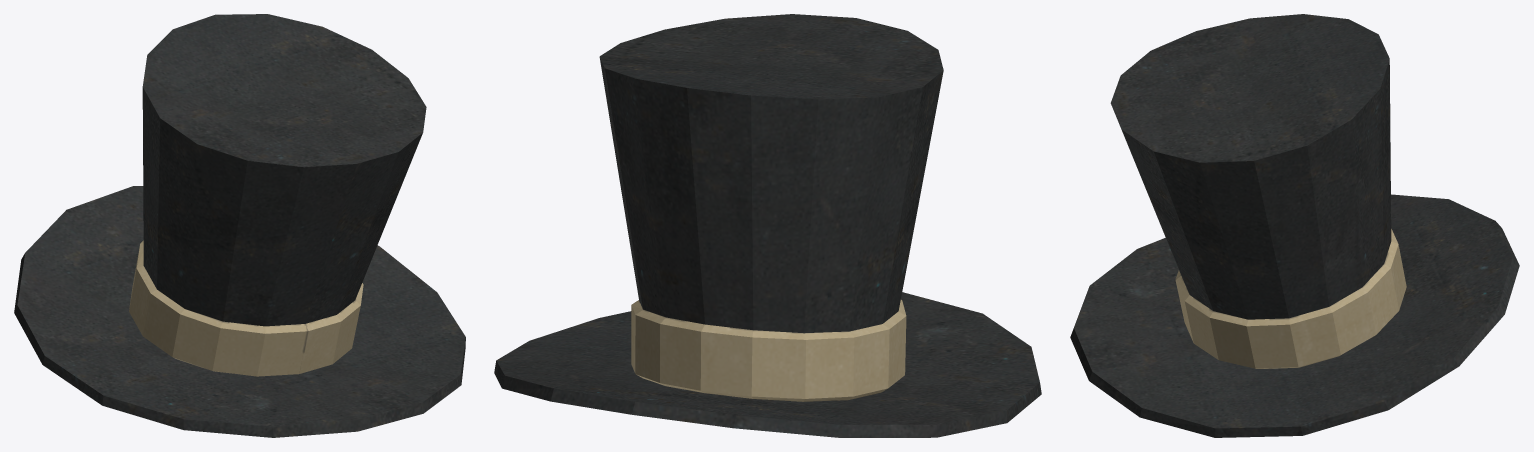
File: snowmanhat.obj
3 views of the same model, side by side, from view 1: azimuth 30°, elevation 25°; view 2: azimuth 150°, elevation 25°; view 3: azimuth 270°, elevation 25° (orthographic). The views are drawn at different scales.
Visible parts, largest first — view 1: snowmanhatmesh; view 2: snowmanhatmesh; view 3: snowmanhatmesh.
Part boxes in pixels (x1=…): snowmanhatmesh: x1=14, y1=14, x2=465, y2=437; snowmanhatmesh: x1=494, y1=14, x2=1041, y2=437; snowmanhatmesh: x1=1070, y1=14, x2=1519, y2=437.
Bounding box in the file's own units: 1.41 × 1.05 × 1.41.
Materials: 1 (1 with a texture image).
